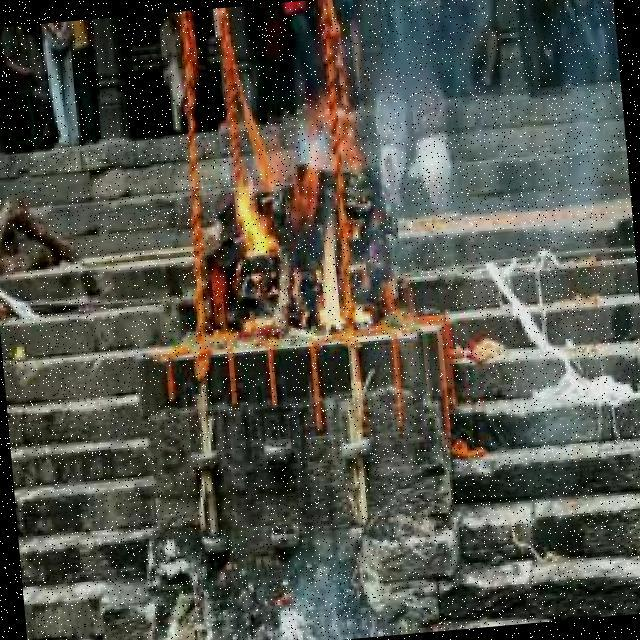Fire: (221, 98, 354, 340)
